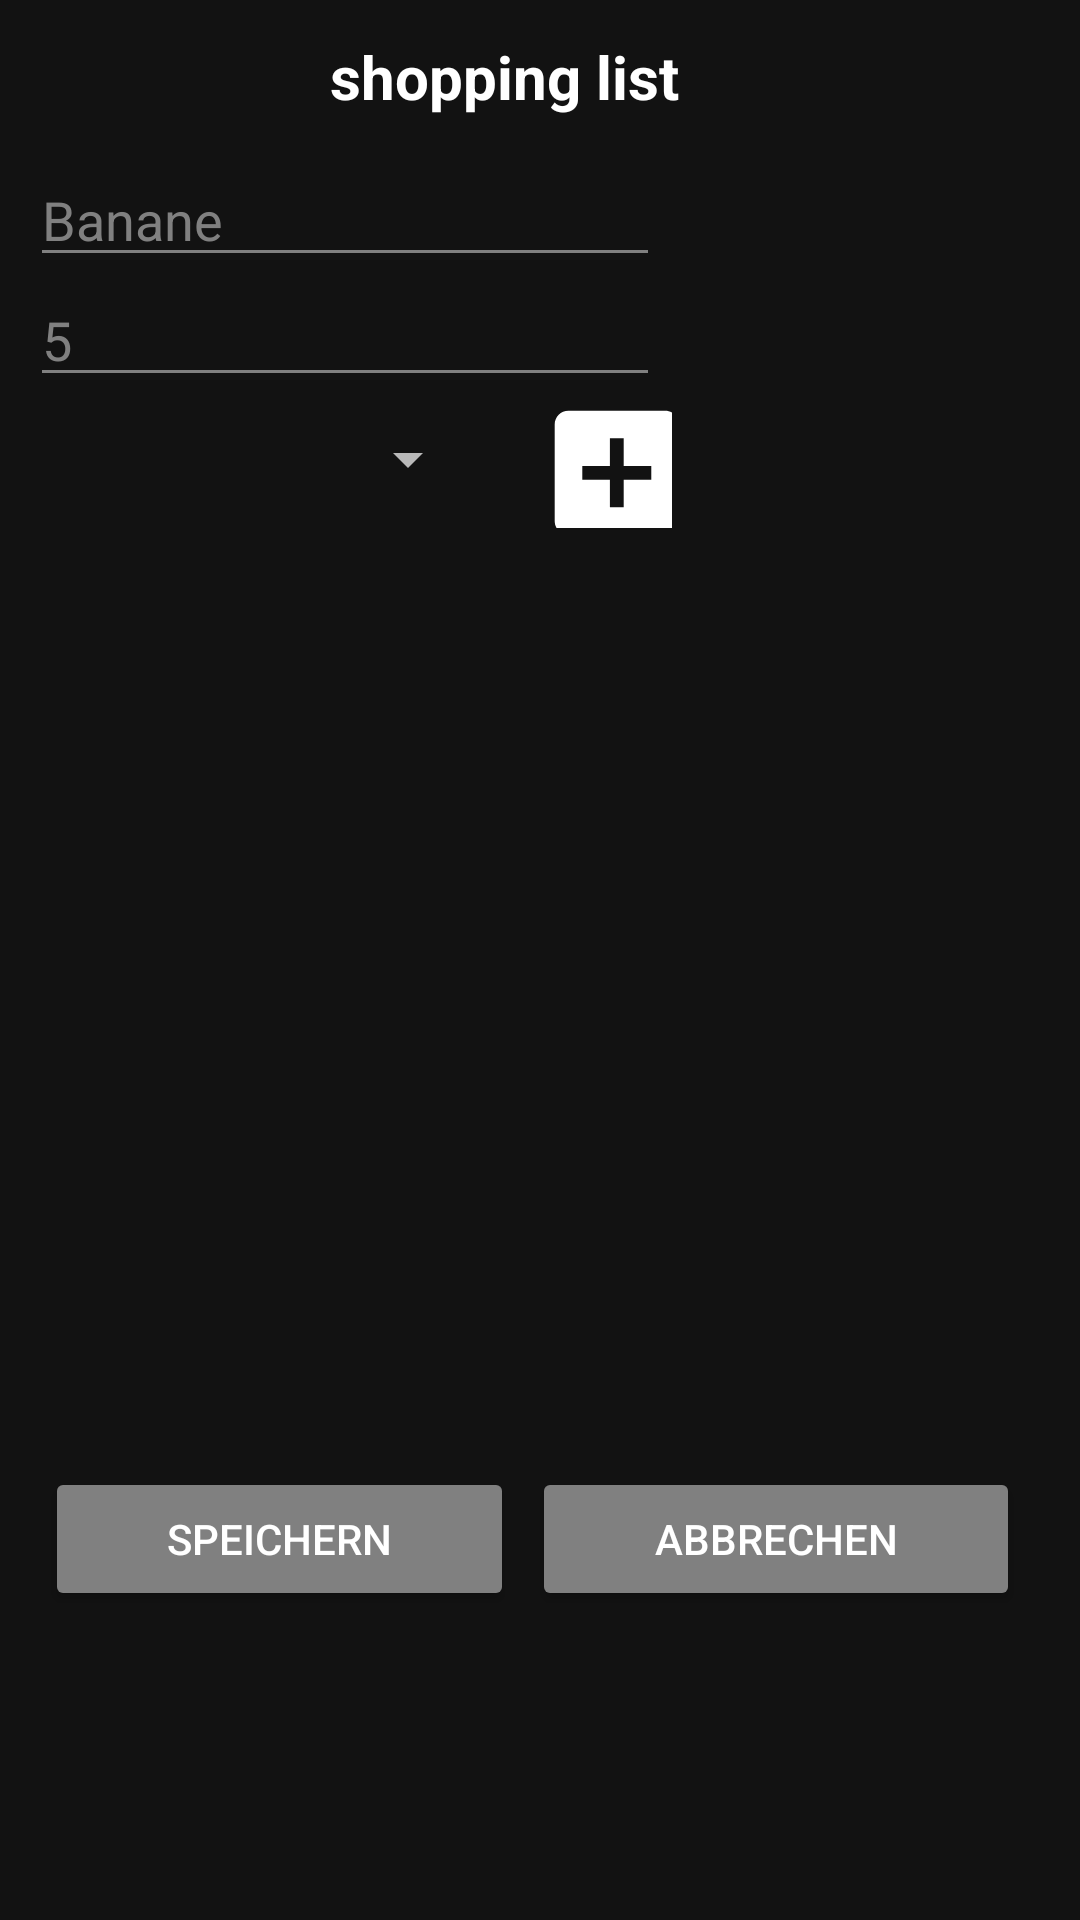

Locate icon controls on the screen. Image size 1080*1920, boxes as BBox(x1, y1, x2, y2).
add box: BBox(554, 410, 672, 528)
